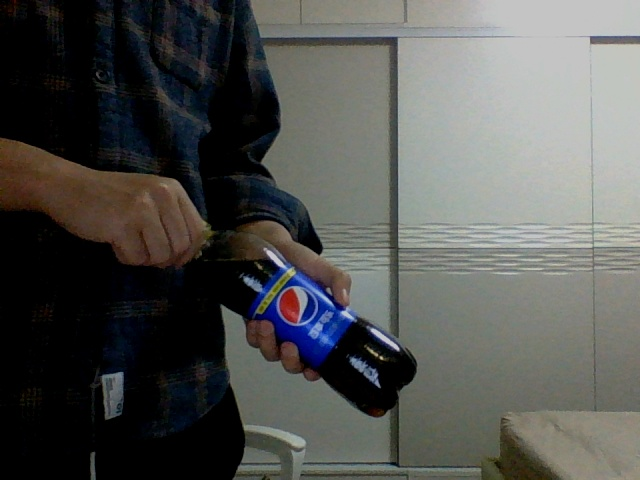Cola: (192, 226, 419, 417)
